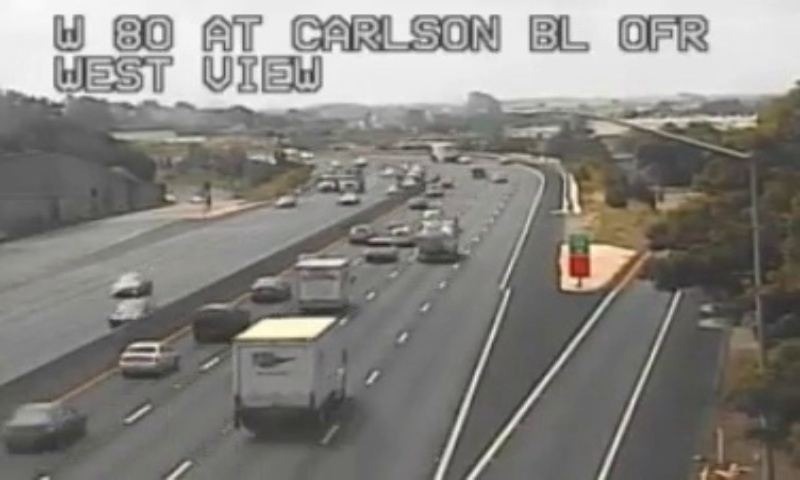car: (2, 404, 85, 452), (119, 341, 176, 377), (193, 304, 246, 341), (251, 277, 289, 303), (361, 238, 395, 261)
small-truck: (231, 315, 344, 427), (293, 256, 348, 312)
